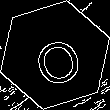O_N: (26, 24, 84, 86)
